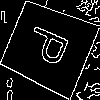P: (24, 22, 79, 72)
